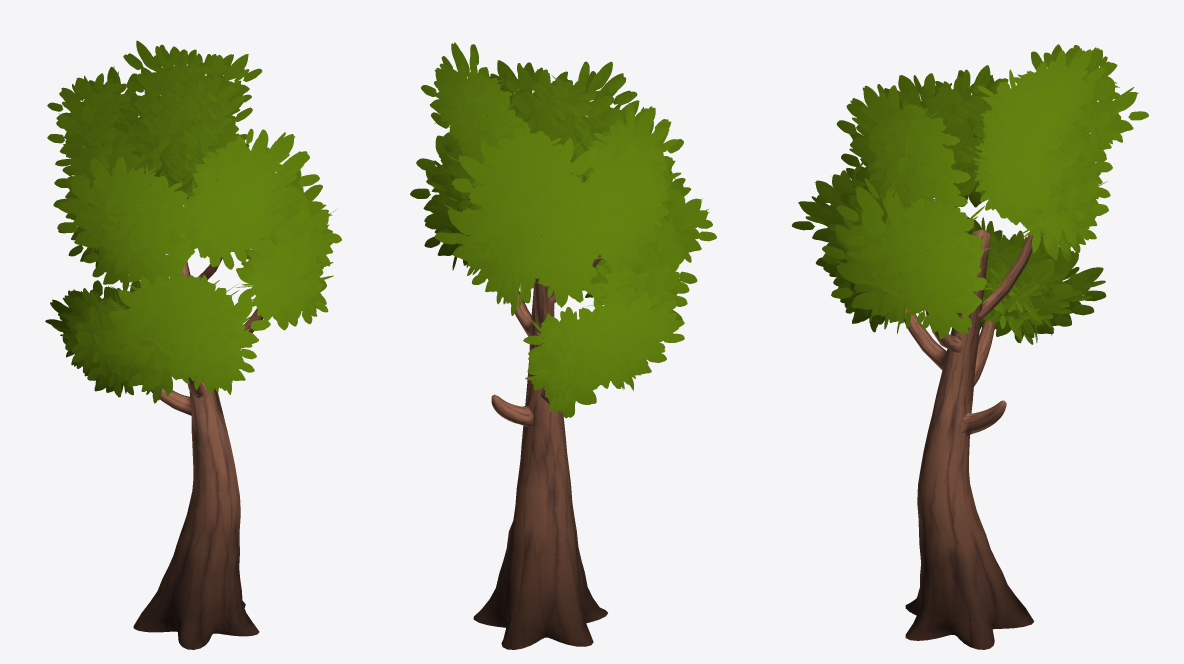
The model's file is CommonTree_5.gltf.
3 renders of one model, left to right at view 1: azimuth 30°, elevation 25°; view 2: azimuth 150°, elevation 25°; view 3: azimuth 270°, elevation 25°, orthographic. The views are drawn at different scales.
Visible parts, largest first — view 1: CommonTree_5; view 2: CommonTree_5; view 3: CommonTree_5.
Boxes of the visible parts, box(x1,y1,x2,y2) form: CommonTree_5: box(45, 40, 341, 649); CommonTree_5: box(410, 42, 716, 649); CommonTree_5: box(791, 44, 1148, 649).
Bounding box in the file's own units: 3.67 × 7.01 × 4.22.
Materials: 2 (2 with a texture image).
